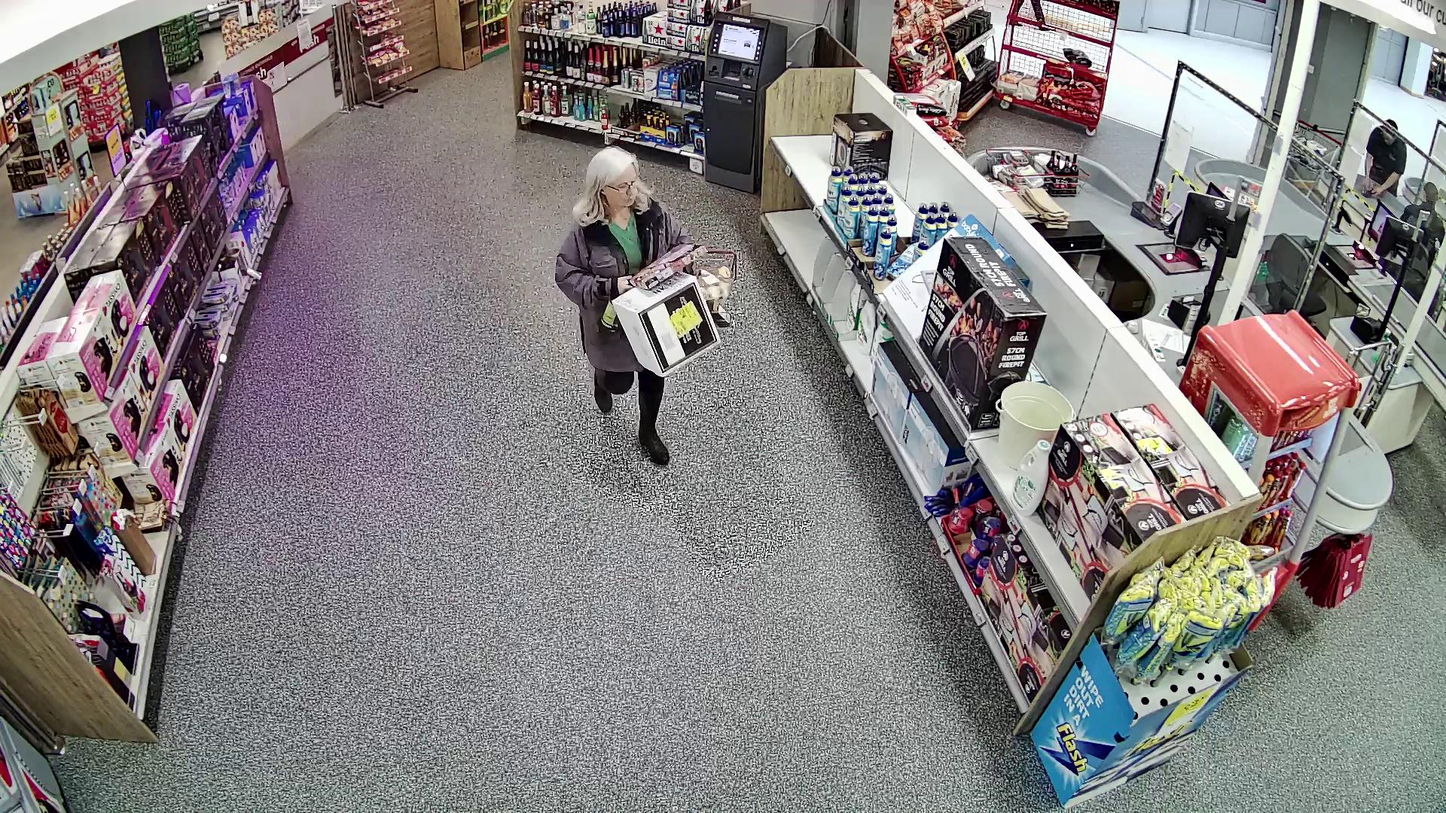carrying-item: (599, 244, 722, 378)
filled-basket: (679, 249, 738, 333)
person: (555, 146, 693, 469)
person-with-basket-trolly-and-carrying-item: (557, 146, 739, 466)
vacant-checkout-counter: (1023, 188, 1250, 317), (1257, 216, 1421, 321)
